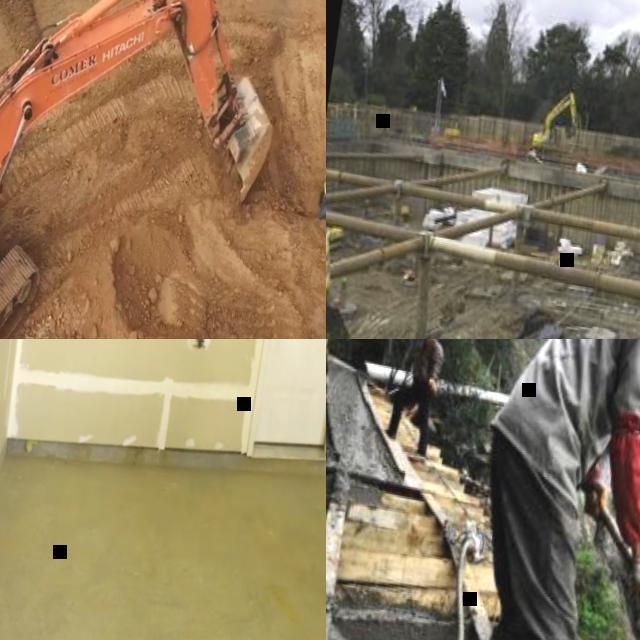NO-Safety Vest: (494, 339, 640, 496), (407, 340, 439, 388)
Person: (421, 339, 640, 640), (382, 339, 451, 455), (326, 339, 375, 410), (317, 152, 326, 221)
machinery: (0, 0, 305, 339), (531, 86, 585, 157), (326, 222, 341, 339), (441, 113, 463, 140)
